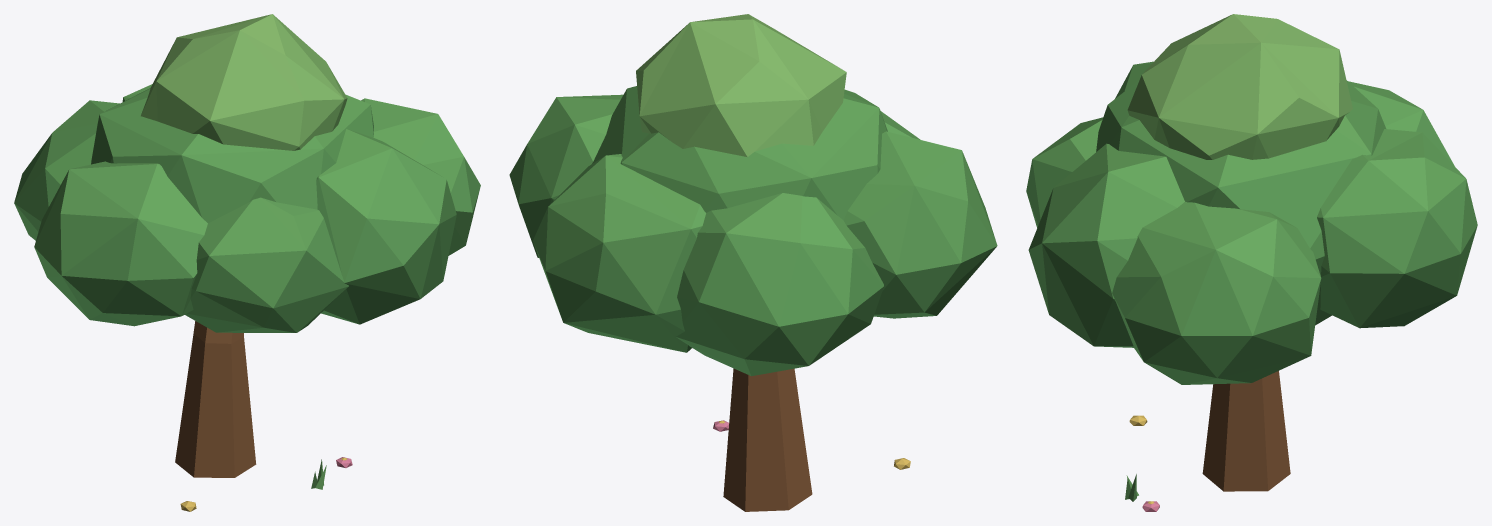
File: ranch_border_oak_round.fbx
3 renders of one model, left to right at view 1: azimuth 30°, elevation 25°; view 2: azimuth 150°, elevation 25°; view 3: azimuth 270°, elevation 25°, orthographic. The views are drawn at different scales.
Visible parts, largest first — view 1: ranch_border_oak_round; view 2: ranch_border_oak_round; view 3: ranch_border_oak_round.
Boxes of the visible parts, x1,y1,x2,y2 form: ranch_border_oak_round: (14,14,480,511); ranch_border_oak_round: (509,14,997,511); ranch_border_oak_round: (1026,14,1477,511).
Bounding box in the file's own units: 16.65 × 16.44 × 14.28.
